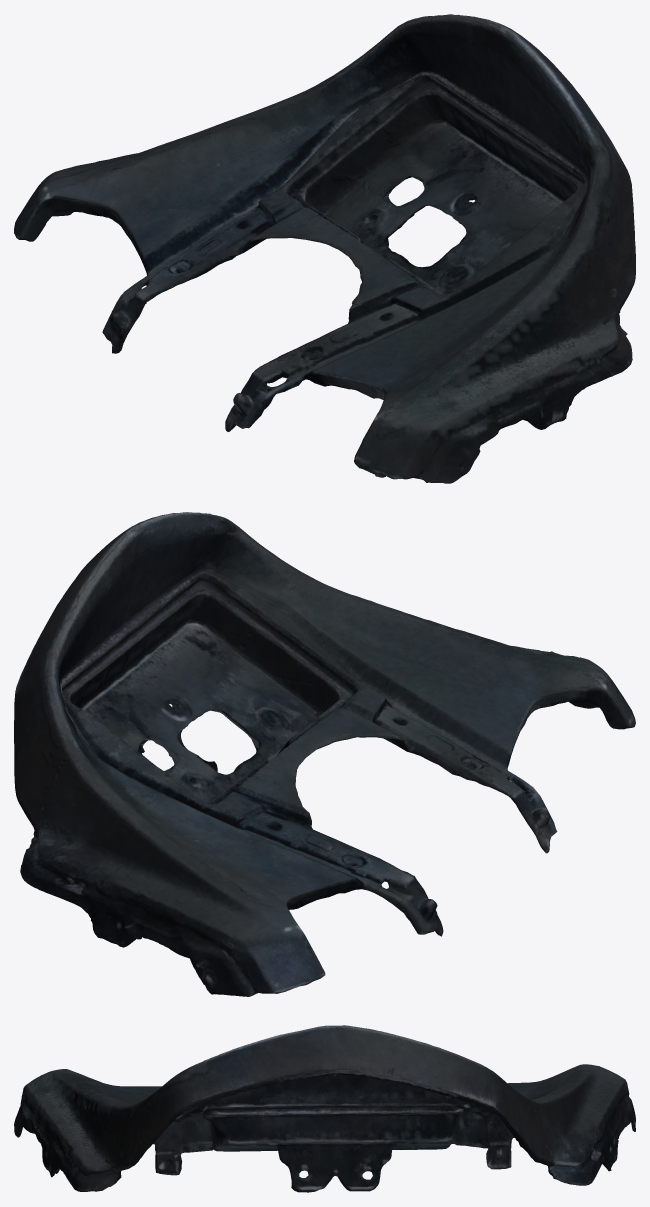
File: F01_assembled.obj
3 renders of one model, top to bottom at view 1: azimuth 30°, elevation 25°; view 2: azimuth 150°, elevation 25°; view 3: azimuth 270°, elevation 25°, orthographic. The views are drawn at different scales.
Visible parts, largest first — view 1: SPD-06114X-B_—_Case,_Meter; view 2: SPD-06114X-B_—_Case,_Meter; view 3: SPD-06114X-B_—_Case,_Meter.
Boxes of the visible parts, box(x1,y1,x2,y2) form: SPD-06114X-B_—_Case,_Meter: box(14, 14, 635, 483); SPD-06114X-B_—_Case,_Meter: box(14, 512, 635, 996); SPD-06114X-B_—_Case,_Meter: box(14, 1025, 635, 1192).
Bounding box in the file's own units: 0.2667 × 0.1809 × 0.4485.
1 material, 1 textured.
